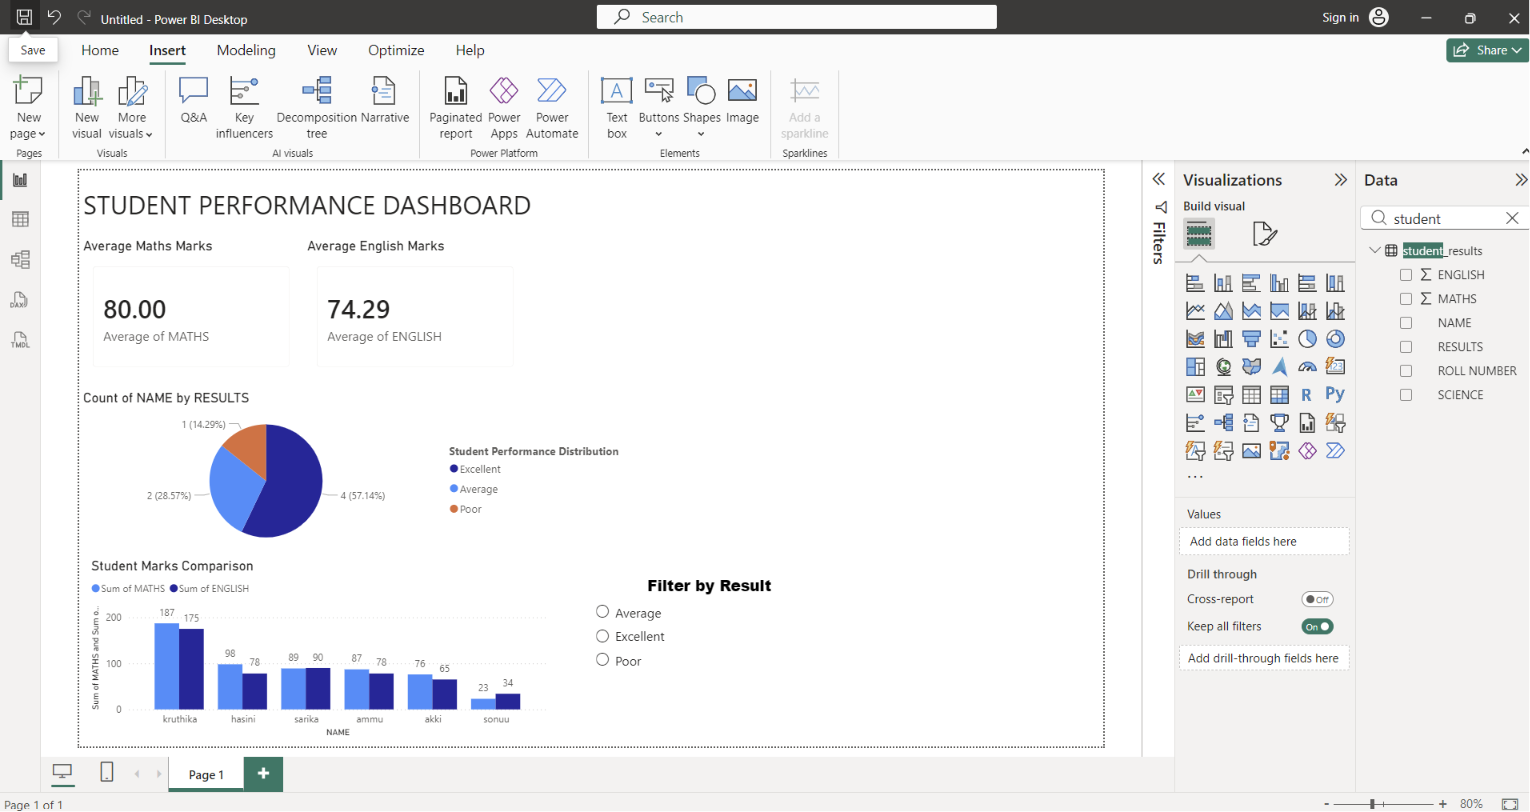

The page's visual inventory and layout, read from the dashboard file:
{"tool":"powerbi","page":{"name":"Page 1","canvas":[1280,720],"ordinal":0},"visuals":[{"type":"pieChart","fields":{"Category":["student_results.RESULTS"],"Y":["CountNonNull(student_results.NAME)"]},"box":[0,273.8,677.5,210],"z":0},{"type":"clusteredColumnChart","title":"Student Marks Comparison","fields":{"Category":["student_results.NAME"],"Y":["Sum(student_results.MATHS)","Sum(student_results.ENGLISH)"]},"box":[10,483.8,580,230],"z":1000},{"type":"cardVisual","title":"Average Maths Marks","fields":{"Data":["Avg(student_results.MATHS)"]},"box":[0,83.8,280,180],"z":2000},{"type":"cardVisual","title":"Average English Marks","fields":{"Data":["Avg(student_results.ENGLISH)"]},"box":[280,83.8,280,180],"z":3000},{"type":"textbox","box":[0,16.2,590,67.5],"z":4000},{"type":"listSlicer","title":"Filter by Result","fields":{"Values":["student_results.RESULTS"]},"box":[640,505,295,215],"z":4001}]}

Visuals, with their boxes on the page's 1280x720 design canvas (x1, y1, x2, y2). These are canvas units, not pixel positions in the 1530x812 screenshot, which may show the page scaled, cropped or inside an application window:
pieChart - student_results.RESULTS x CountNonNull(student_results.NAME): {"left": 0, "top": 274, "right": 678, "bottom": 484}
"Student Marks Comparison" clusteredColumnChart: {"left": 10, "top": 484, "right": 590, "bottom": 714}
"Average Maths Marks" cardVisual: {"left": 0, "top": 84, "right": 280, "bottom": 264}
"Average English Marks" cardVisual: {"left": 280, "top": 84, "right": 560, "bottom": 264}
textbox: {"left": 0, "top": 16, "right": 590, "bottom": 84}
"Filter by Result" listSlicer: {"left": 640, "top": 505, "right": 935, "bottom": 720}
